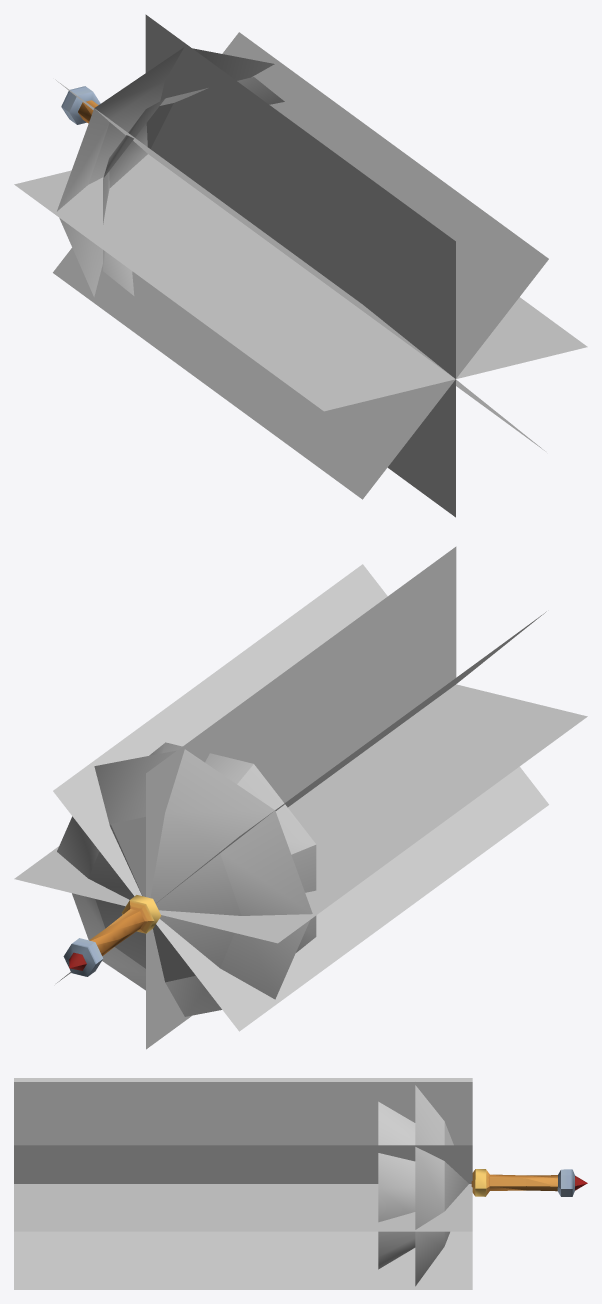
File: ZSaber.obj
3 renders of one model, top to bottom at view 1: azimuth 30°, elevation 25°; view 2: azimuth 150°, elevation 25°; view 3: azimuth 270°, elevation 25°, orthographic. The views are drawn at different scales.
Visible parts, largest first — view 1: Energy, Handle; view 2: Energy, Handle; view 3: Energy, Handle.
Part boxes in pixels (x1,y1,x2,y2): Energy: (14,14,587,517); Handle: (61,86,100,124); Energy: (14,546,587,1049); Handle: (63,895,161,976); Energy: (14,1078,472,1289); Handle: (471,1169,587,1196).
Bounding box in the file's own units: 6.14 × 6.14 × 15.63.
